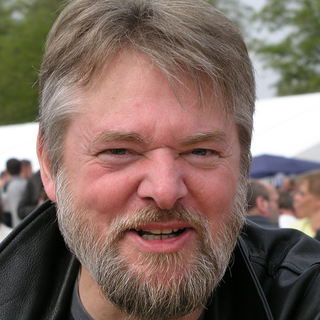eye: (175, 139, 226, 168), (90, 141, 146, 166)
